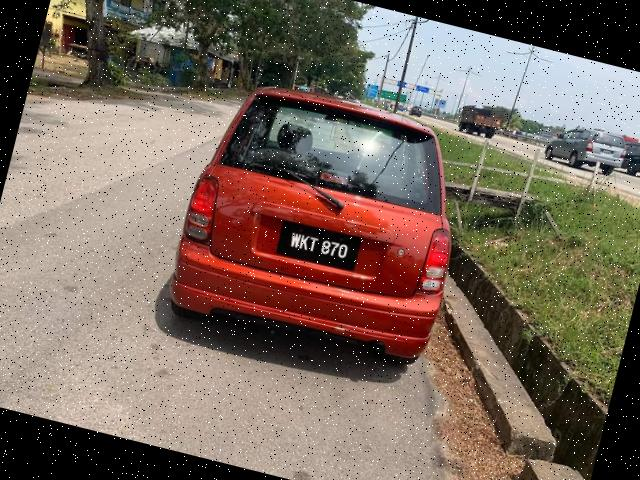License_Plate: (275, 224, 367, 273)
car: (159, 70, 485, 379)
